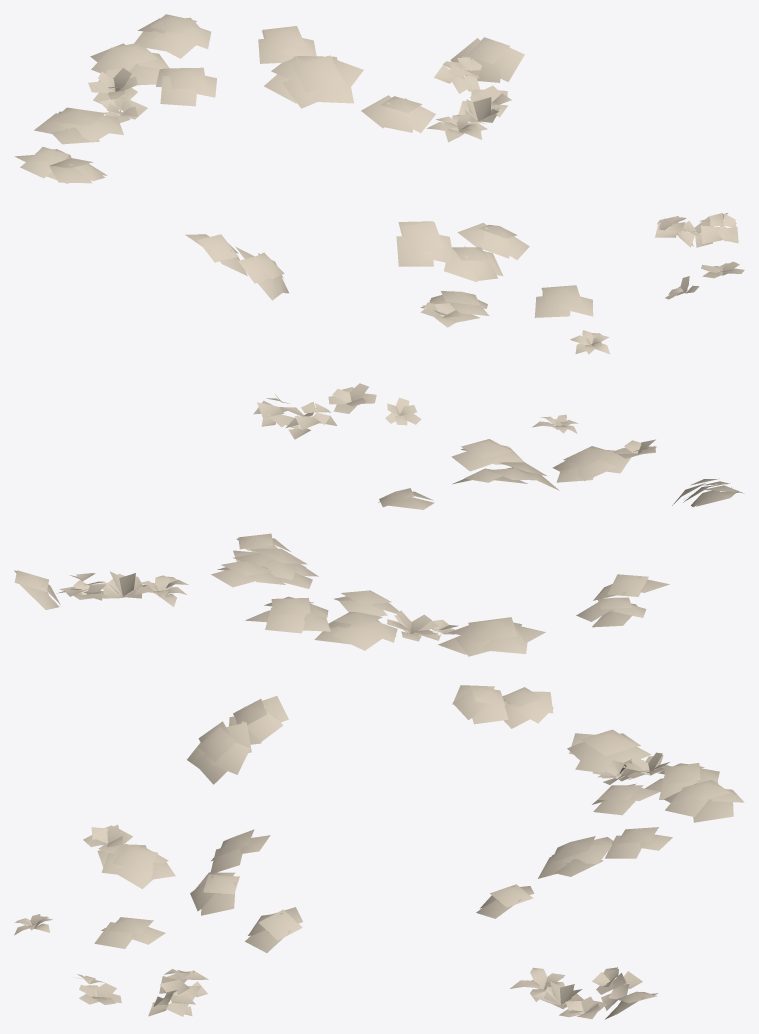
3 renders of one model, top to bottom at view 1: azimuth 30°, elevation 25°; view 2: azimuth 150°, elevation 25°; view 3: azimuth 270°, elevation 25°, orthographic. The views are drawn at different scales.
Visible parts, largest first — view 1: 001-0-1; view 2: 001-0-1; view 3: 001-0-1.
Boxes of the visible parts, x1,y1,x2,y2 form: 001-0-1: (14, 14, 744, 354); 001-0-1: (14, 383, 744, 656); 001-0-1: (14, 685, 744, 1019).
Size of the model in its own units: 59.9 by 11.19 by 68.61.
